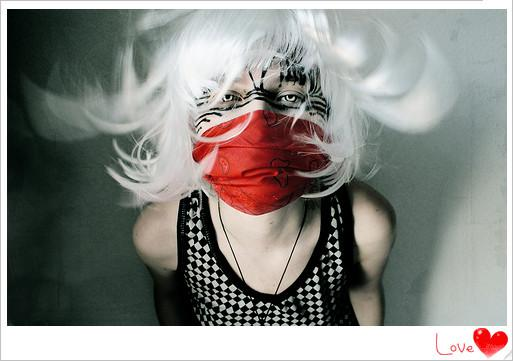OK: (188, 66, 339, 217)
